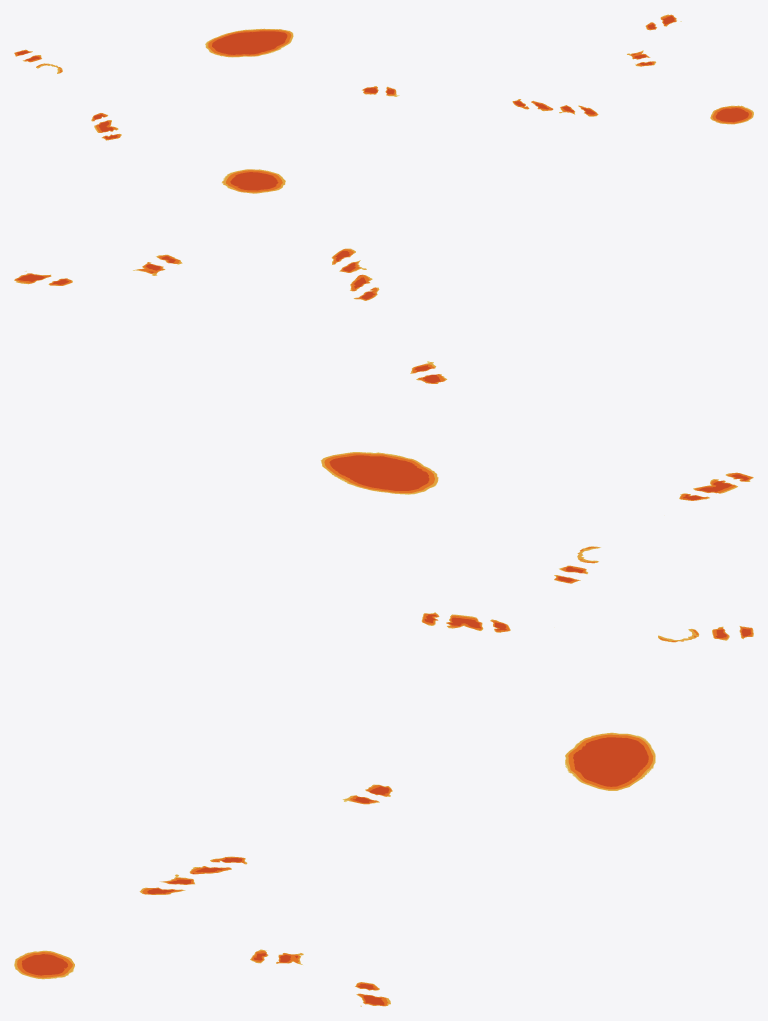
The model's file is Dungeon-3C-Water.fbx.
3 renders of one model, top to bottom at view 1: azimuth 30°, elevation 25°; view 2: azimuth 150°, elevation 25°; view 3: azimuth 270°, elevation 25°, orthographic. The views are drawn at different scales.
Parts seen in each view (by area): view 1: Dungeon-3C-Water; view 2: Dungeon-3C-Water; view 3: Dungeon-3C-Water.
Boxes of the visible parts, left/top/right/bottom form: Dungeon-3C-Water: left=14, top=14, right=753, bottom=140; Dungeon-3C-Water: left=14, top=169, right=753, bottom=583; Dungeon-3C-Water: left=14, top=612, right=753, bottom=1006.
Size of the model in its own units: 103 by 0 by 81.85.
